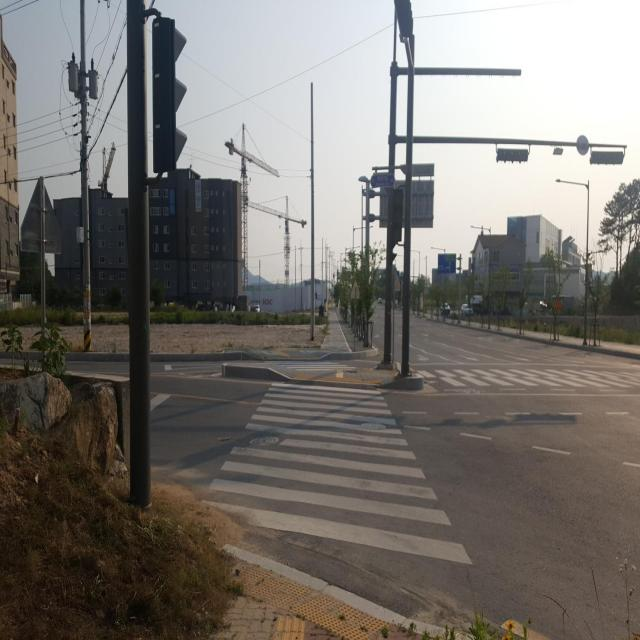횡단보도: (201, 378, 474, 568), (408, 362, 640, 400)
